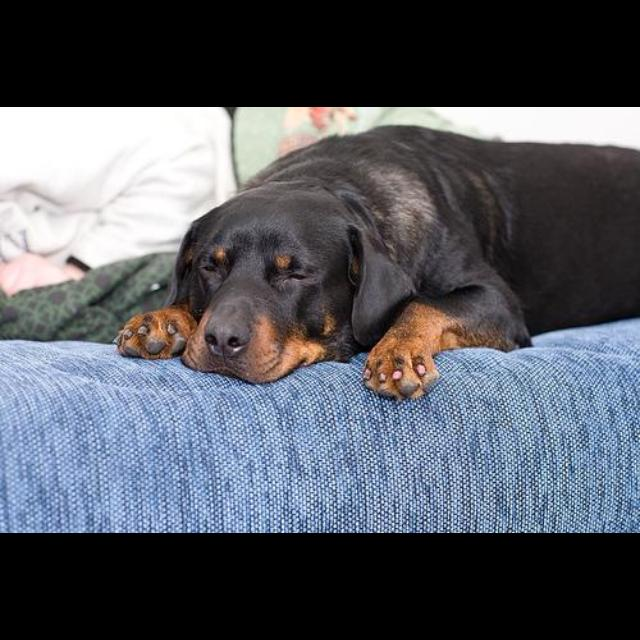rottweiler: (114, 124, 640, 403)
